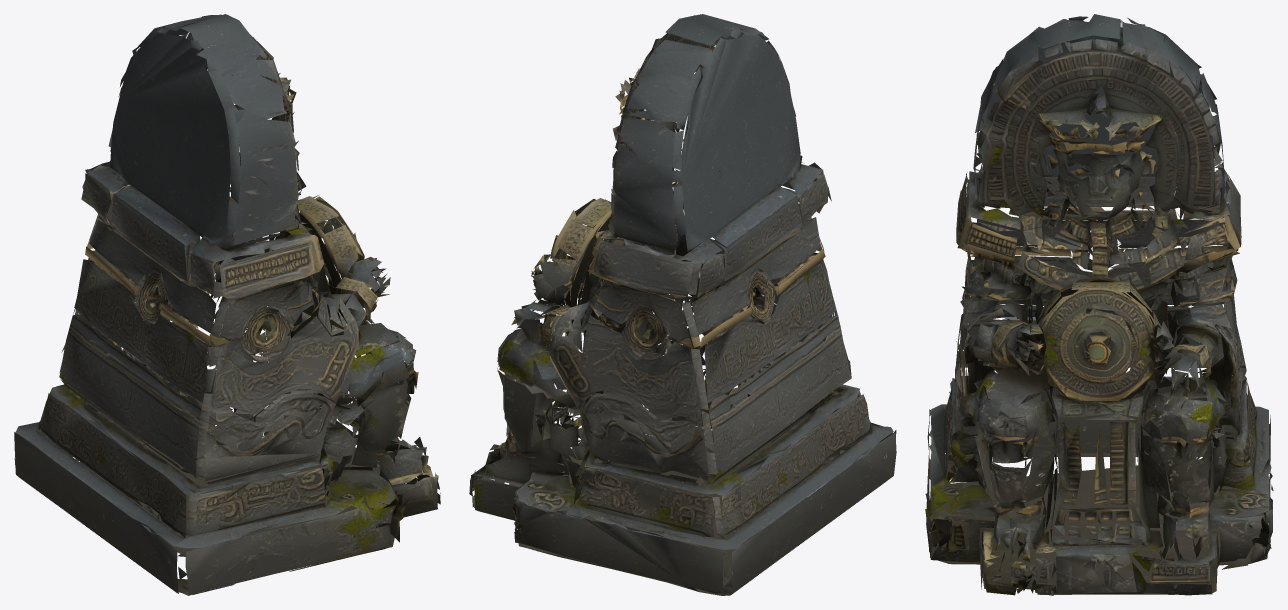
File: ch6_drowned_temple_statue_LOD2.glb
3 renders of one model, left to right at view 1: azimuth 30°, elevation 25°; view 2: azimuth 150°, elevation 25°; view 3: azimuth 270°, elevation 25°, orthographic.
Visible parts, largest first — view 1: tripo_node_ed97cdbb-6704-44aa-9db0-06d1c5b0128f; view 2: tripo_node_ed97cdbb-6704-44aa-9db0-06d1c5b0128f; view 3: tripo_node_ed97cdbb-6704-44aa-9db0-06d1c5b0128f.
Boxes of the visible parts, <box> form: tripo_node_ed97cdbb-6704-44aa-9db0-06d1c5b0128f: <box>14,14,440,595</box>; tripo_node_ed97cdbb-6704-44aa-9db0-06d1c5b0128f: <box>469,14,896,595</box>; tripo_node_ed97cdbb-6704-44aa-9db0-06d1c5b0128f: <box>925,14,1273,595</box>.
Size of the model in its own units: 0.6413 by 1.01 by 0.6513.
Materials: 1 (1 with a texture image).
